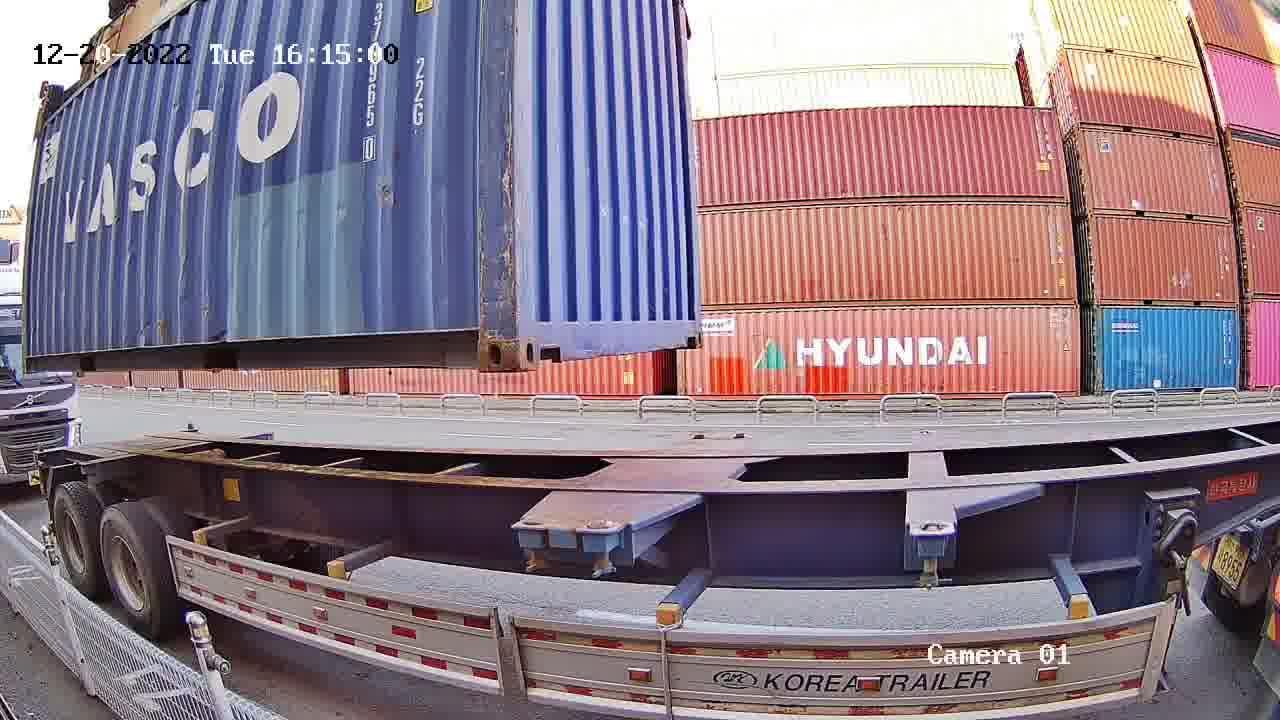Chassis: (514, 432, 712, 529), (579, 432, 753, 532)
Cone: (583, 519, 624, 578), (518, 516, 548, 571)
Hole_L: (518, 299, 584, 370)
Hole_R: (435, 303, 518, 374), (664, 300, 705, 349)
Tire: (99, 510, 163, 632), (52, 484, 97, 592)
